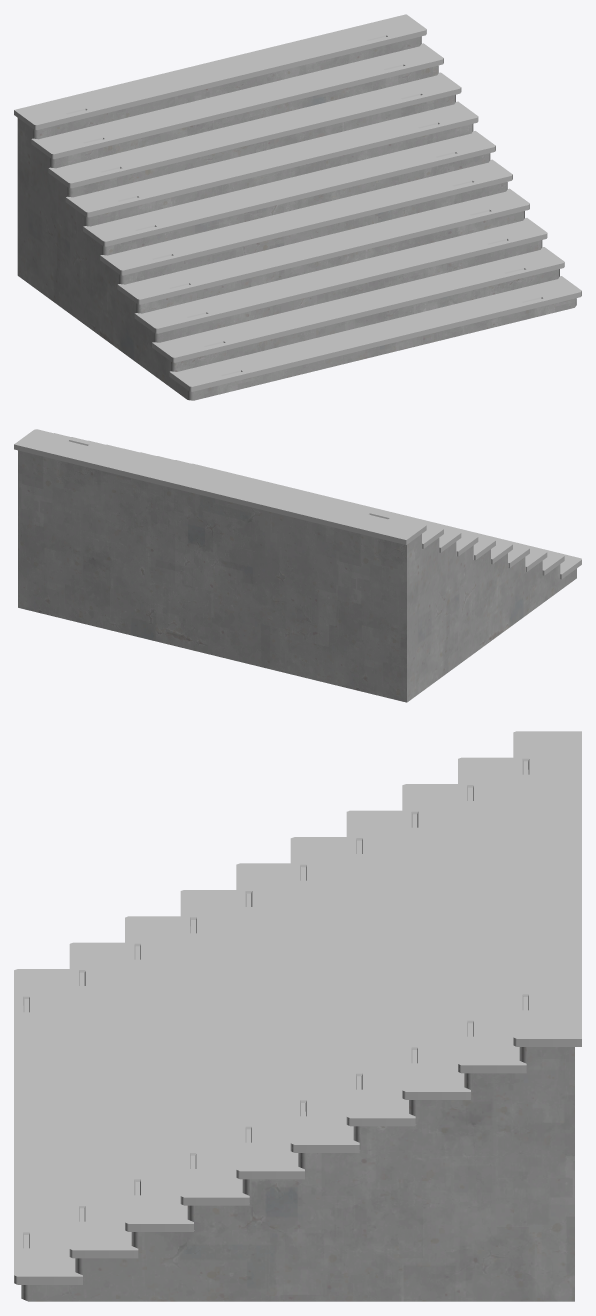
The model's file is SM_Cit_Sta_03BS.fbx.
3 renders of one model, top to bottom at view 1: azimuth 30°, elevation 25°; view 2: azimuth 150°, elevation 25°; view 3: azimuth 270°, elevation 25°, orthographic. The views are drawn at different scales.
Visible parts, largest first — view 1: SM_Cit_Sta_03BS.mo; view 2: SM_Cit_Sta_03BS.mo; view 3: SM_Cit_Sta_03BS.mo.
Part boxes in pixels (box(x1,y1,x2,y2)): SM_Cit_Sta_03BS.mo: box(14, 14, 581, 400); SM_Cit_Sta_03BS.mo: box(14, 429, 581, 702); SM_Cit_Sta_03BS.mo: box(14, 731, 581, 1301).
Size of the model in its own units: 5 by 2 by 3.9.
